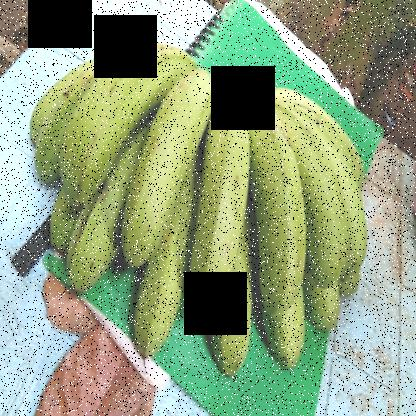freshunripe: (116, 58, 219, 264), (186, 87, 252, 312), (129, 233, 192, 370), (203, 236, 258, 376)
unripe: (54, 30, 189, 205), (234, 86, 304, 318), (274, 94, 350, 291), (59, 159, 120, 294), (260, 294, 315, 375)
